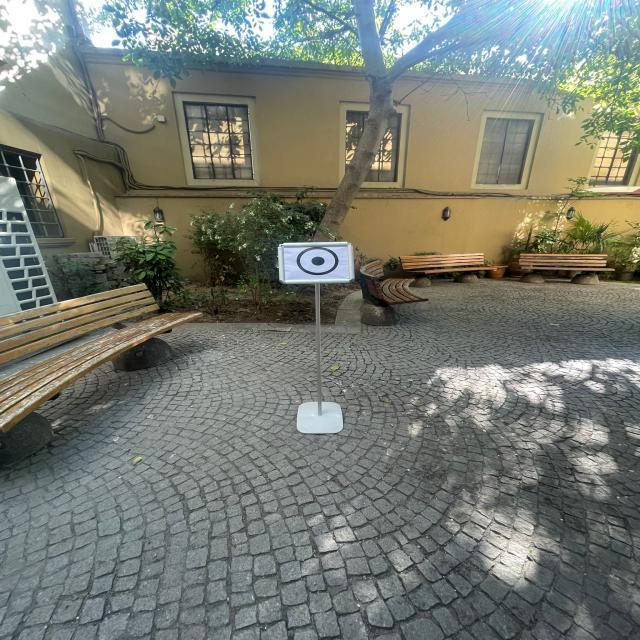Target: (268, 229, 364, 295)
inner: (306, 253, 330, 270)
